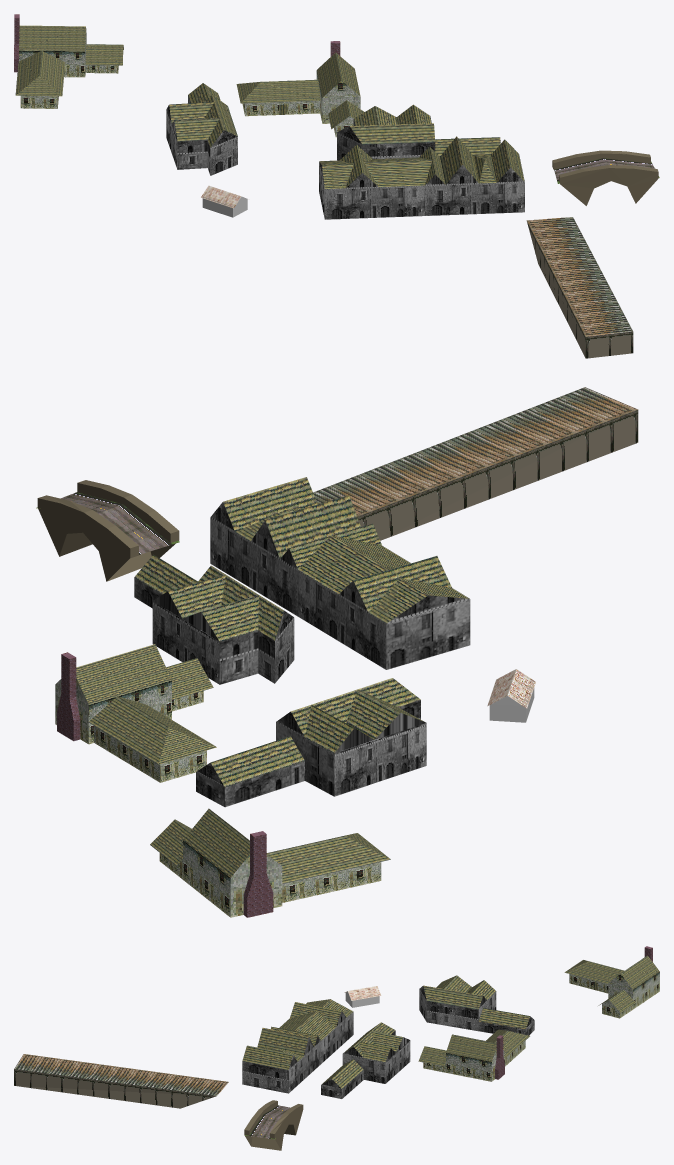
The model's file is vilage.obj.
The picture shows the model from 3 angles, top to bottom: view 1: azimuth 30°, elevation 25°; view 2: azimuth 150°, elevation 25°; view 3: azimuth 270°, elevation 25°; orthographic projection. The views are drawn at different scales.
Parts seen in each view (by area): view 1: untitled.008_untitled.012; view 2: untitled.008_untitled.012; view 3: untitled.008_untitled.012.
Boxes of the visible parts, x1=… form: untitled.008_untitled.012: x1=14, y1=14, x2=659, y2=358; untitled.008_untitled.012: x1=36, y1=387, x2=638, y2=917; untitled.008_untitled.012: x1=14, y1=946, x2=659, y2=1150.
Bounding box in the file's own units: 229 × 42.8 × 386.
